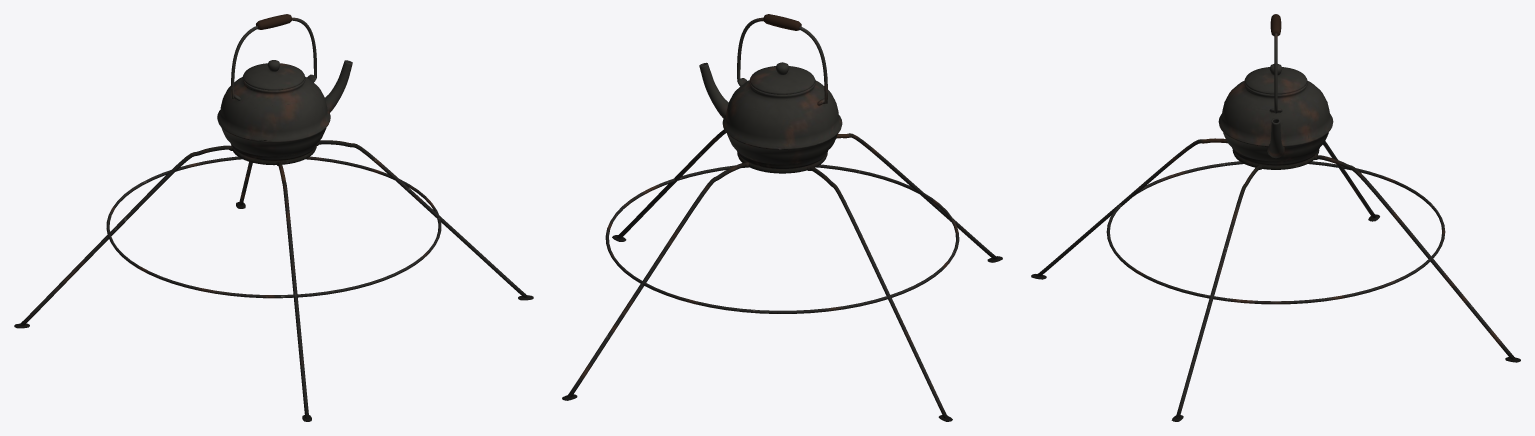
File: kettle.glb
3 views of the same model, side by side, from view 1: azimuth 30°, elevation 25°; view 2: azimuth 150°, elevation 25°; view 3: azimuth 270°, elevation 25° (orthographic). The views are drawn at different scales.
Parts seen in each view (by area): view 1: Body, Stand, Lid, Handle, Spout; view 2: Body, Stand, Lid, Handle, Spout; view 3: Stand, Body, Lid, Handle, Spout.
Part boxes in pixels (x1=…): Body: x1=217, y1=74, x2=330, y2=160; Stand: x1=14, y1=140, x2=533, y2=421; Lid: x1=243, y1=60, x2=304, y2=90; Handle: x1=231, y1=14, x2=316, y2=99; Spout: x1=325, y1=60, x2=352, y2=112; Body: x1=722, y1=78, x2=842, y2=168; Stand: x1=562, y1=129, x2=1002, y2=421; Lid: x1=749, y1=62, x2=815, y2=94; Handle: x1=737, y1=14, x2=827, y2=103; Spout: x1=699, y1=62, x2=728, y2=118; Stand: x1=1031, y1=138, x2=1520, y2=421; Body: x1=1218, y1=80, x2=1333, y2=165; Lid: x1=1244, y1=64, x2=1307, y2=94; Handle: x1=1270, y1=14, x2=1281, y2=113; Spout: x1=1267, y1=118, x2=1284, y2=158.
Bounding box in the file's own units: 1.53 × 1.03 × 1.53.
3 materials, 2 textured.
